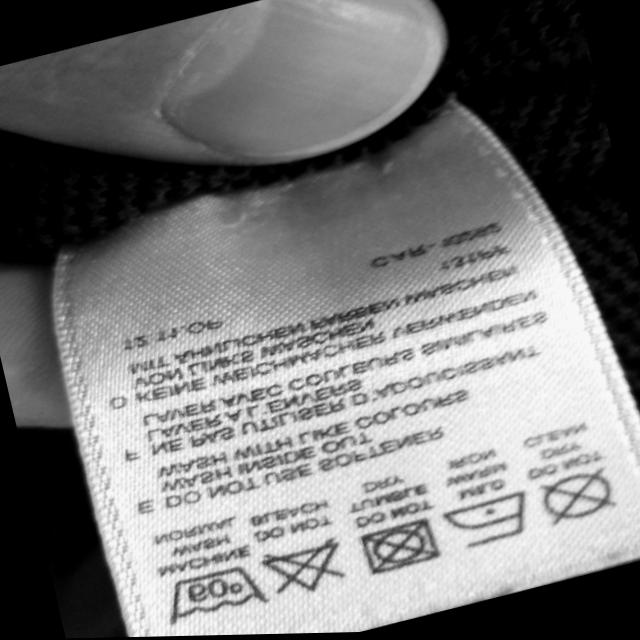60C: (167, 569, 271, 625)
DN_bleach: (261, 535, 348, 600)
DN_dry_clean: (538, 469, 617, 528)
DN_tumble_dry: (363, 517, 440, 579)
iron_low: (443, 491, 531, 551)
